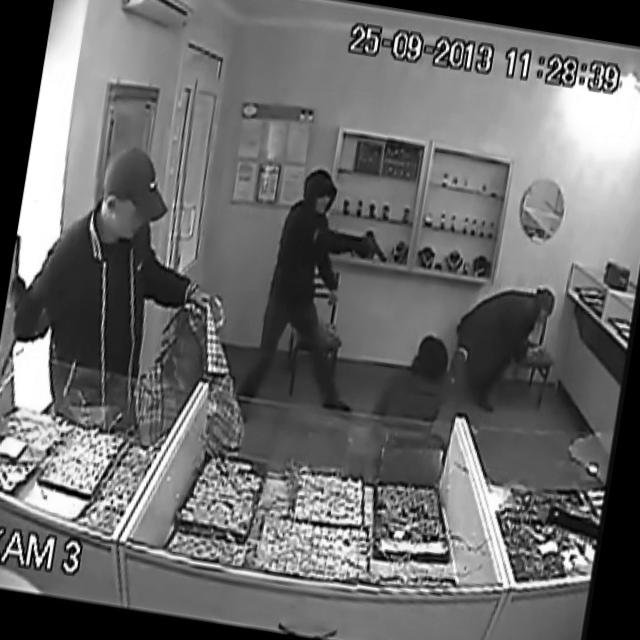gun: (339, 203, 390, 276)
person: (33, 128, 228, 390), (461, 260, 562, 409), (381, 318, 456, 448)
person with a gun: (245, 162, 392, 442)
